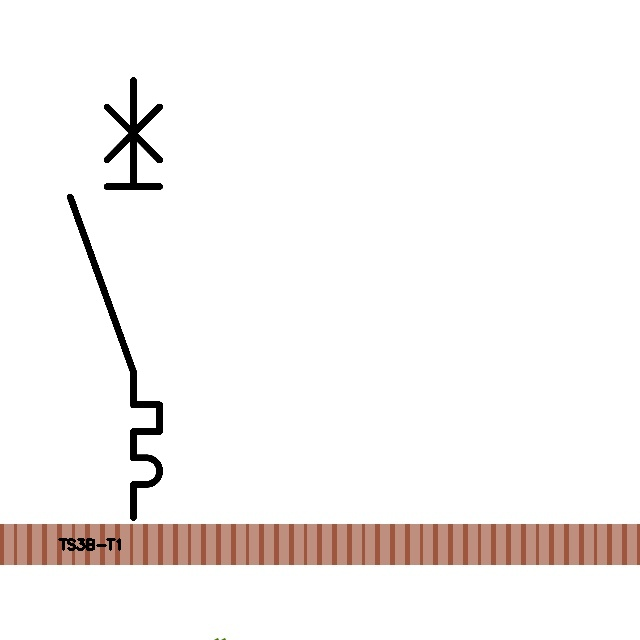interruptor_termomagnetico: (59, 69, 171, 529)
